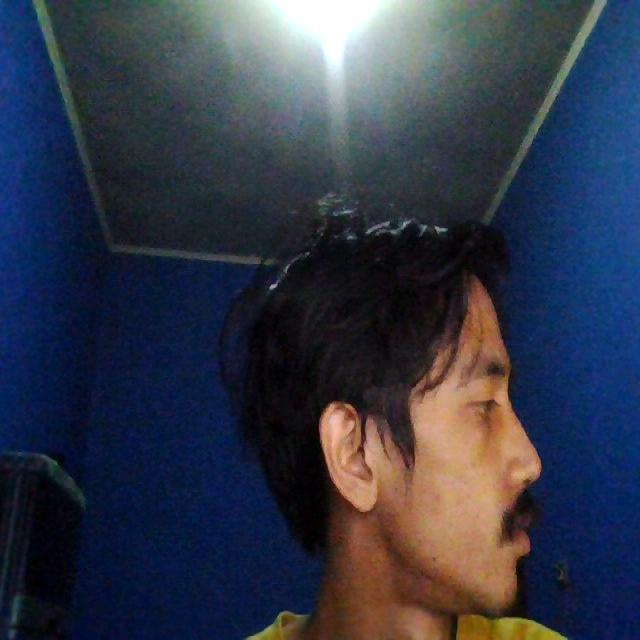melihat kekiri: (224, 188, 561, 610)
